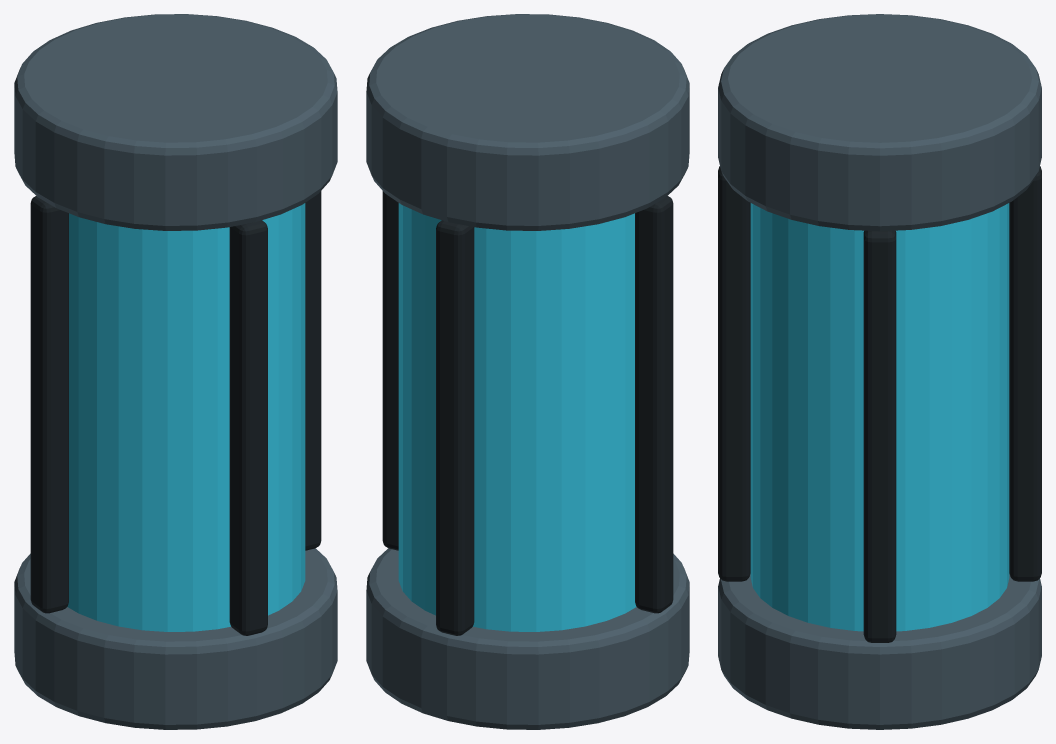
File: SM_CeldaTemporal.fbx
3 views of the same model, side by side, from view 1: azimuth 30°, elevation 25°; view 2: azimuth 150°, elevation 25°; view 3: azimuth 270°, elevation 25° (orthographic).
Visible parts, largest first — view 1: SM_CeldaTemporal; view 2: SM_CeldaTemporal; view 3: SM_CeldaTemporal.
Part boxes in pixels (left/top/right/bottom): SM_CeldaTemporal: left=14, top=14, right=337, bottom=729; SM_CeldaTemporal: left=366, top=14, right=689, bottom=729; SM_CeldaTemporal: left=718, top=14, right=1041, bottom=729.
Size of the model in its own units: 20 by 20 by 40.
